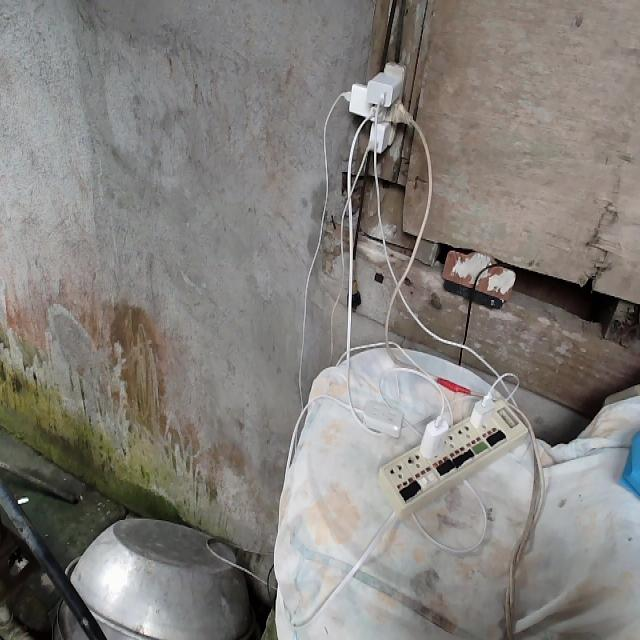-: (351, 66, 412, 158)
